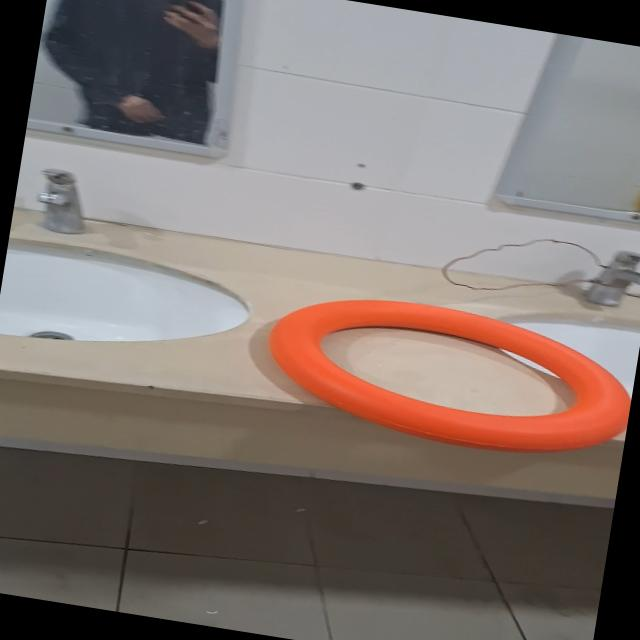note: (254, 278, 638, 472)
